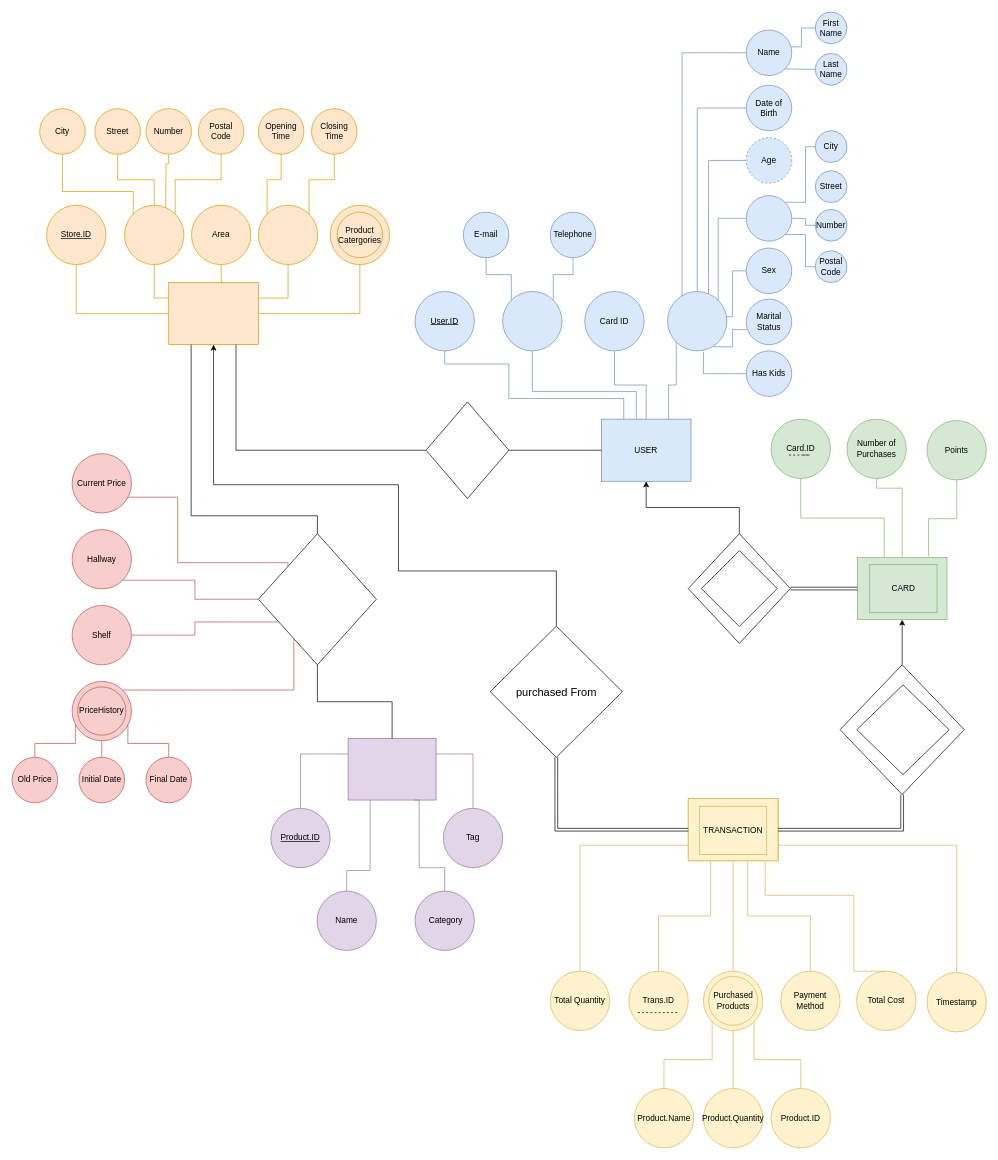
This 998x1160 diagram has some shape labels left out. The centre of each missing label's shape, as x and y in pixels:
"Contact Information" belongs at point 532,321.
"executed With" belongs at point 902,729.
"has Card" belongs at point 739,588.
"is Customer" belongs at point 467,450.
"Operation Times" belongs at point 288,235.
"Personal Information" belongs at point 697,321.
"PRODUCTS" belongs at point 391,769.
"sells" belongs at point 317,599.
"STORE" belongs at point 213,313.
"Store.Adress" belongs at point 154,235.
"User.Adress" belongs at point 769,218.
